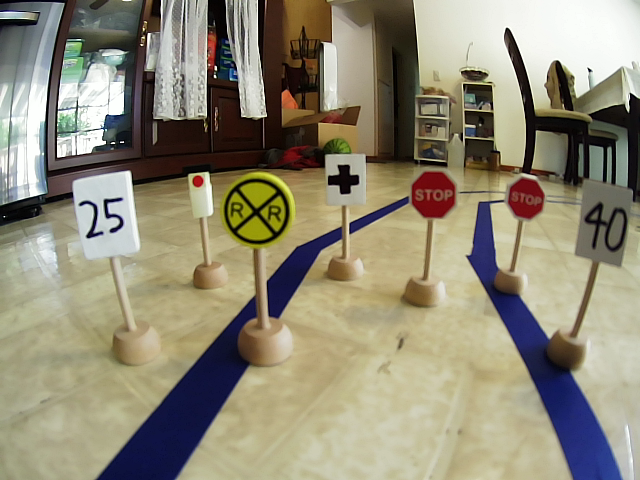25: (73, 169, 138, 256)
40: (572, 177, 633, 271)
plus: (325, 153, 369, 205)
red: (222, 171, 294, 247), (187, 166, 217, 218)
stop: (411, 168, 459, 221), (504, 172, 547, 224)
